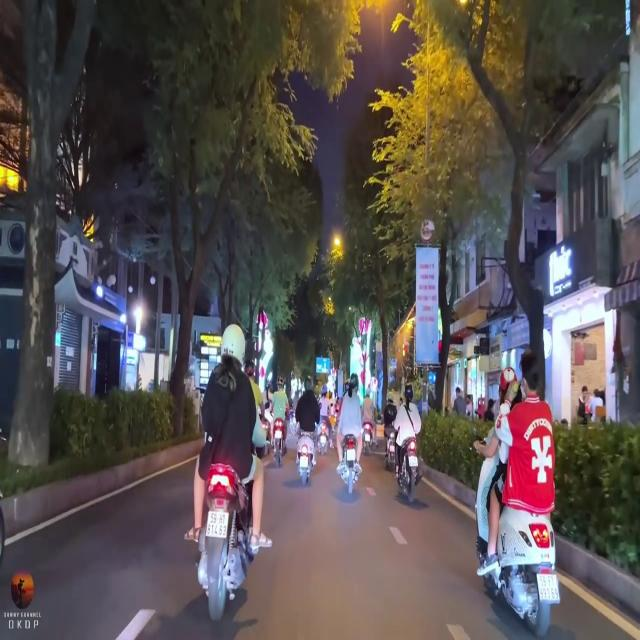bien_trang: (205, 509, 230, 545), (535, 570, 559, 605)
